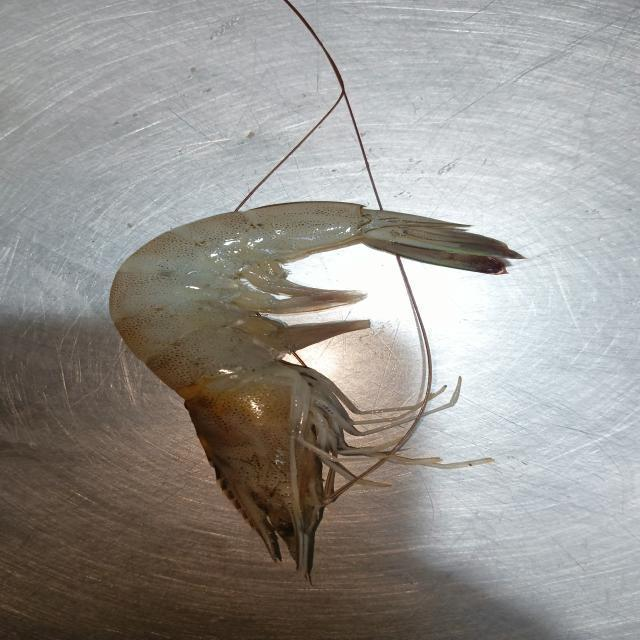shrimp: (110, 202, 523, 575)
